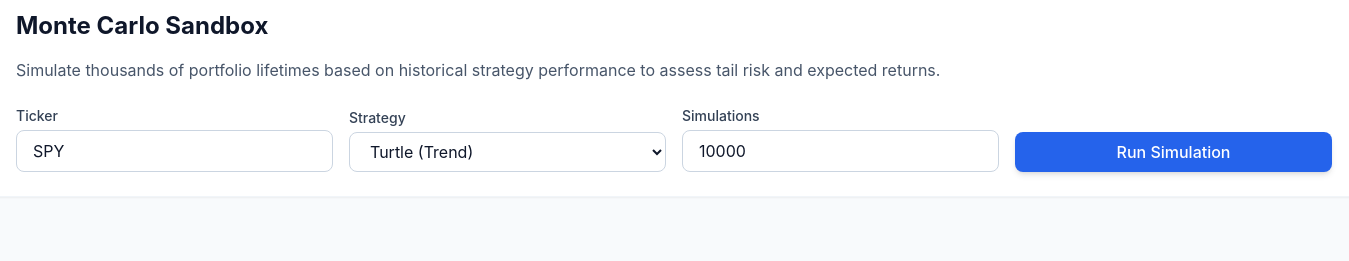
it: MonteCarlo › handles API error
The width and height of the screenshot is (1349, 261).
Click the button "Run Simulation". click: x=1174, y=152
box: [1015, 132, 1332, 172]
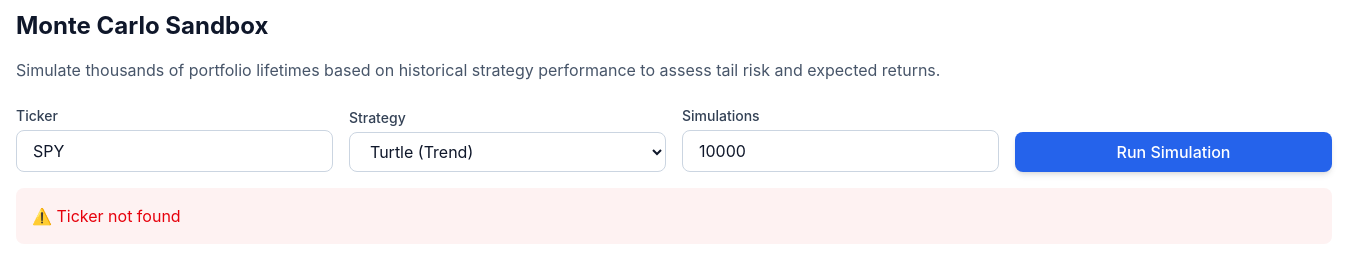
Expected: the text "⚠️ Ticker not found" is shown, [16, 188, 1332, 244]
